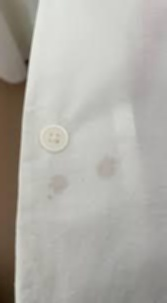wine: (39, 179, 69, 202), (92, 152, 118, 176)
